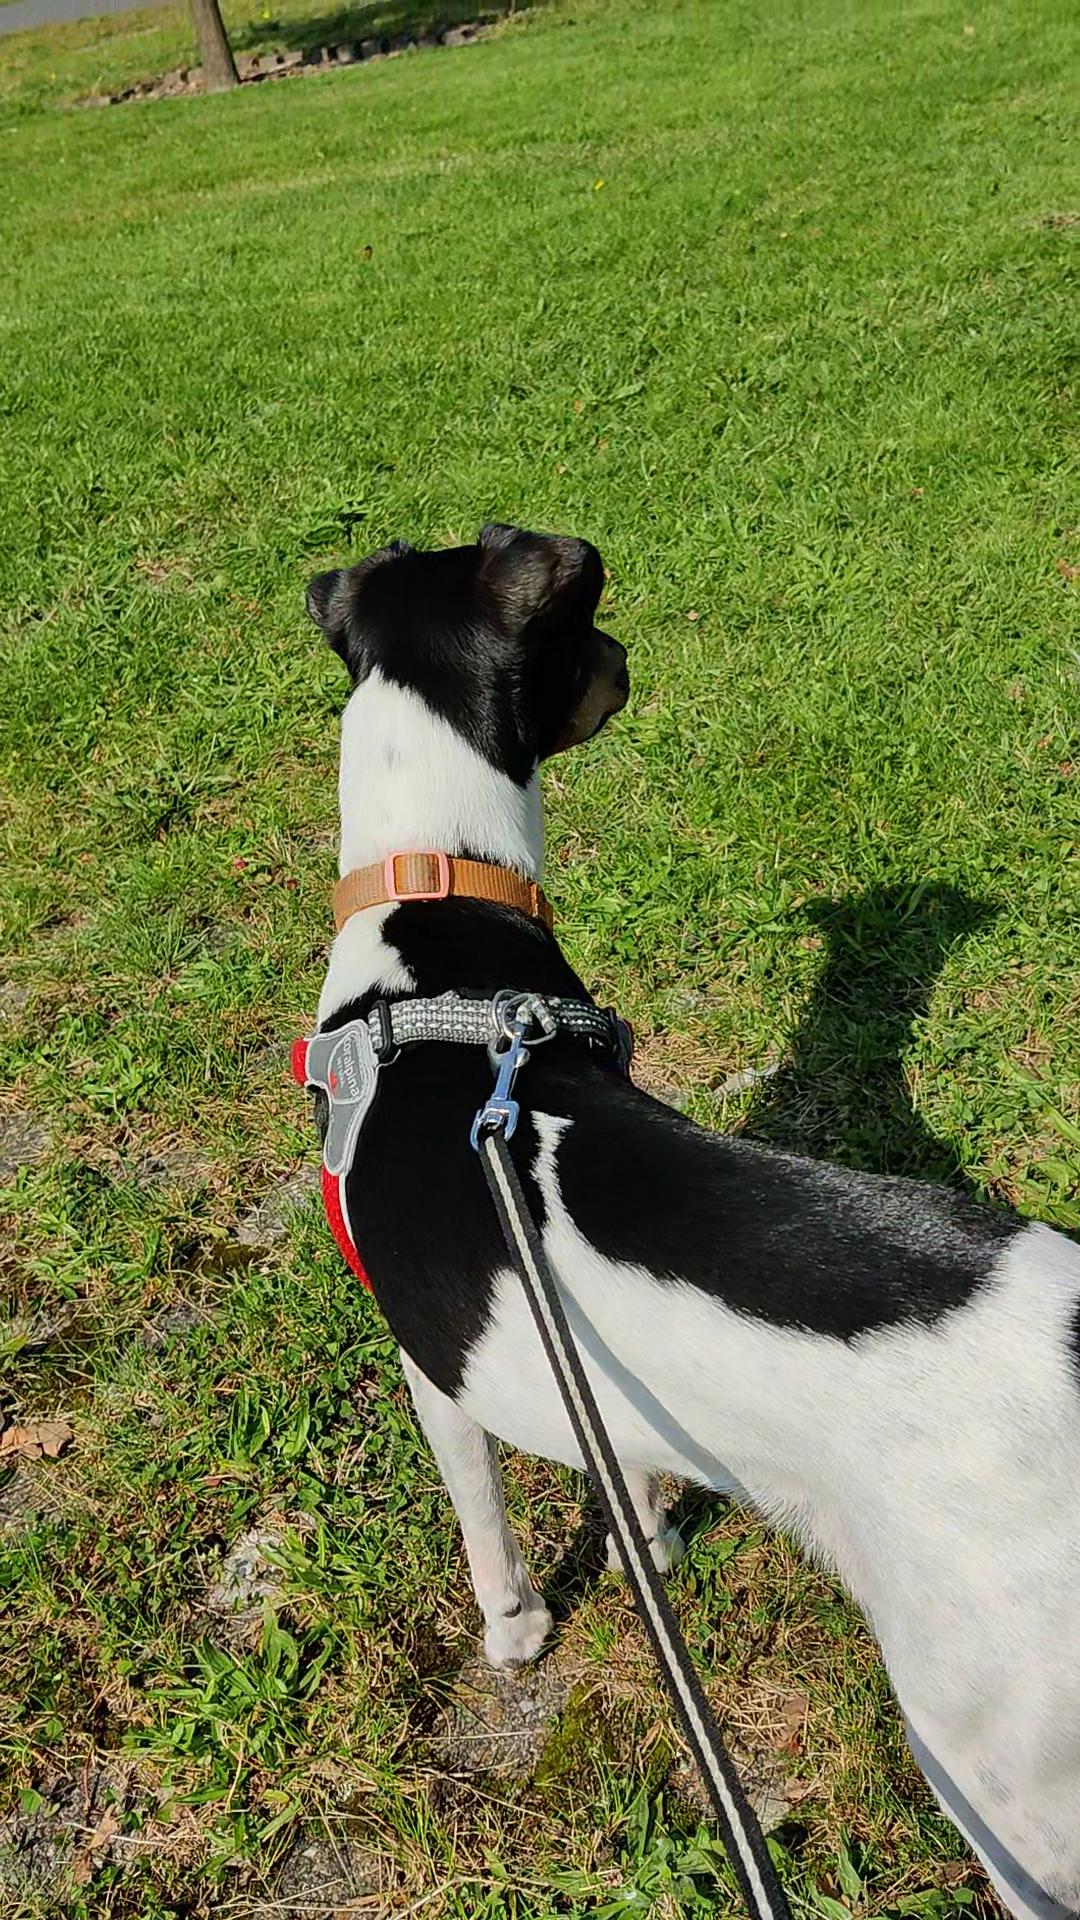Dog: (269, 506, 1079, 1919)
